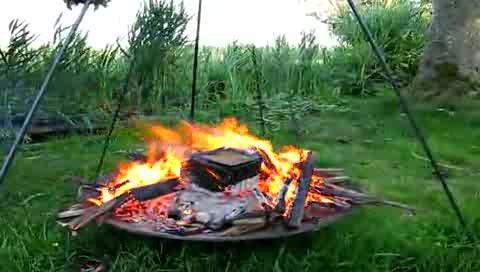fire: (122, 121, 178, 180), (188, 116, 272, 150), (270, 152, 307, 194)
